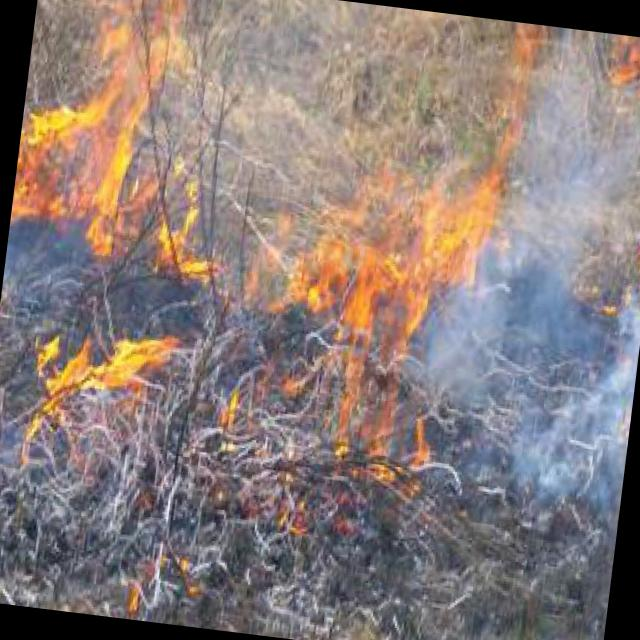fire: (8, 0, 197, 262), (268, 181, 426, 466), (408, 46, 532, 330), (13, 290, 175, 462)
smoke: (398, 49, 640, 489)
